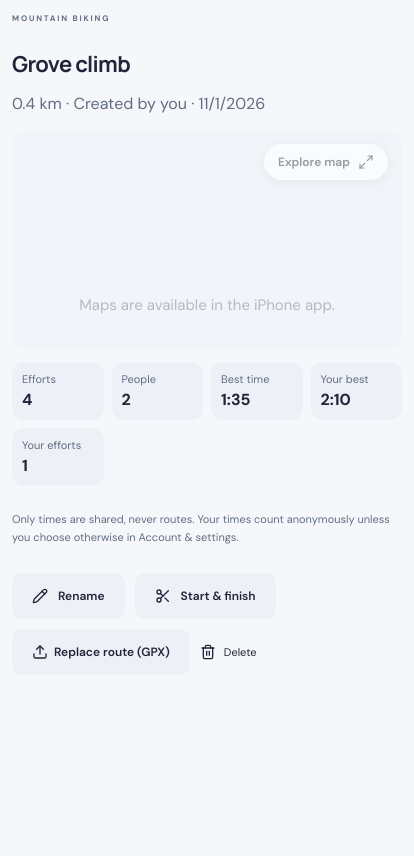
Scenario: shows the server’s refusal and keeps the segment unchanged
Click the button "Rename" at (68, 596), box [12, 573, 124, 619]
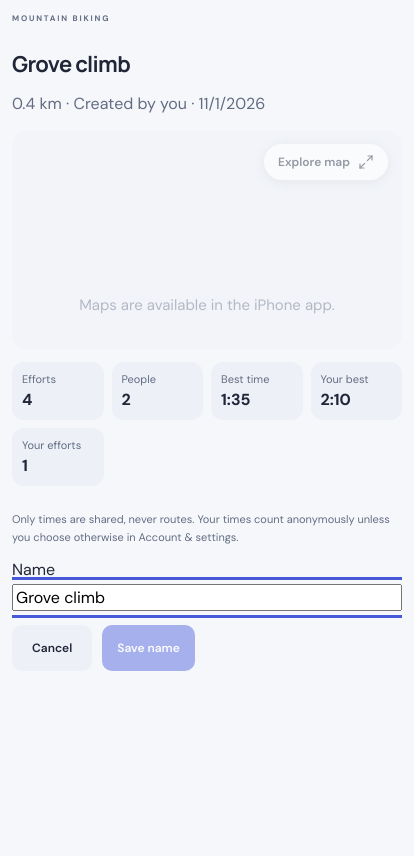
Replace the text in the field labelled "Name" with "Other" at (207, 598), box [12, 584, 402, 611]
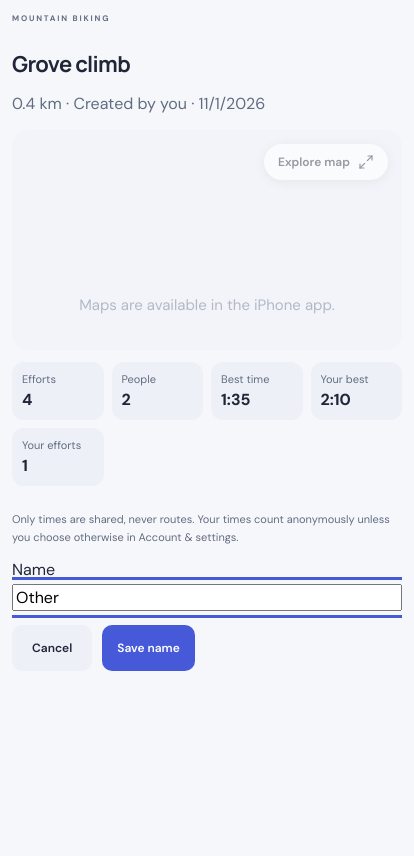
Click the button "Save name" at (148, 648), box [102, 625, 195, 671]
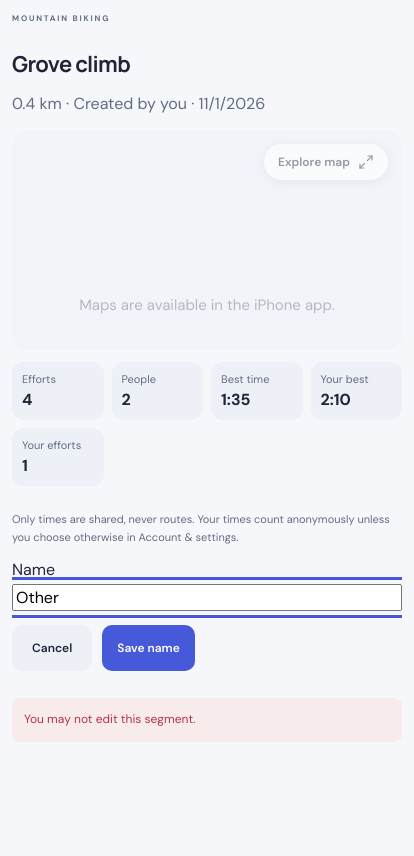
Expected: the message reads "You may not edit this segment.", [24, 711, 196, 727]
